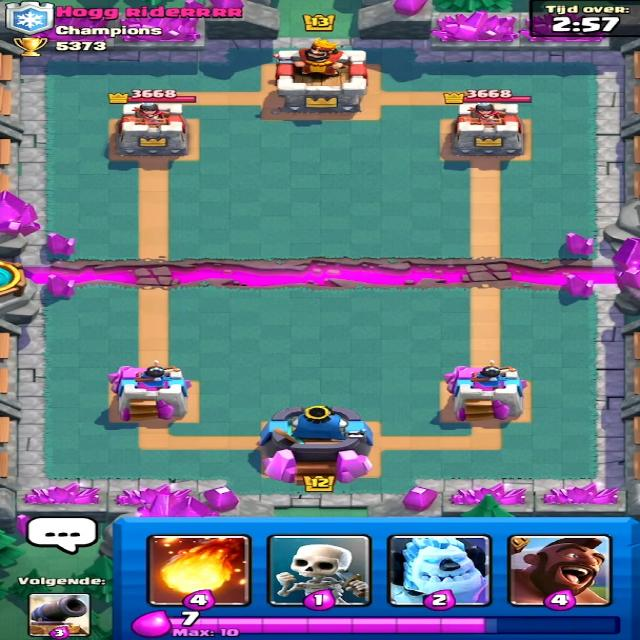Fireball_Card: (154, 536, 245, 603)
Hog_Rider_Card: (503, 534, 617, 607)
Ice_Golem_Card: (384, 536, 492, 604)
Skeleton_Card: (264, 535, 372, 610)
